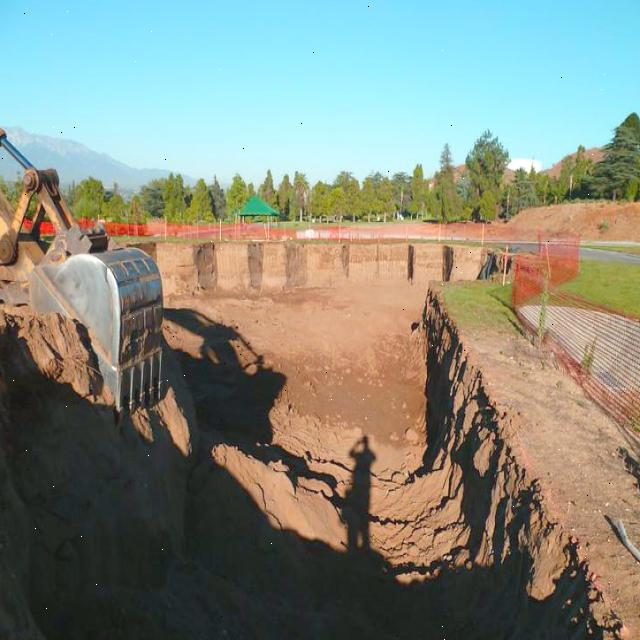Excavator: (0, 93, 168, 418)
